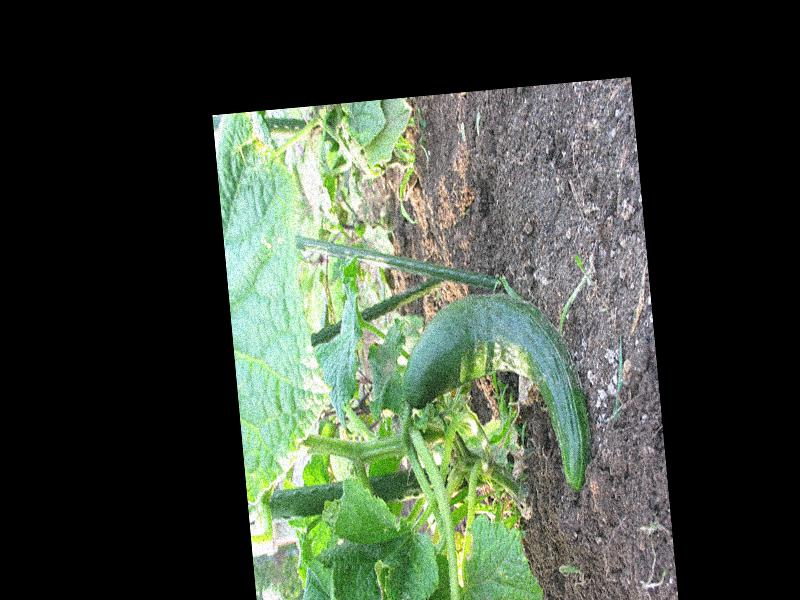Cucumber: (394, 284, 596, 507)
